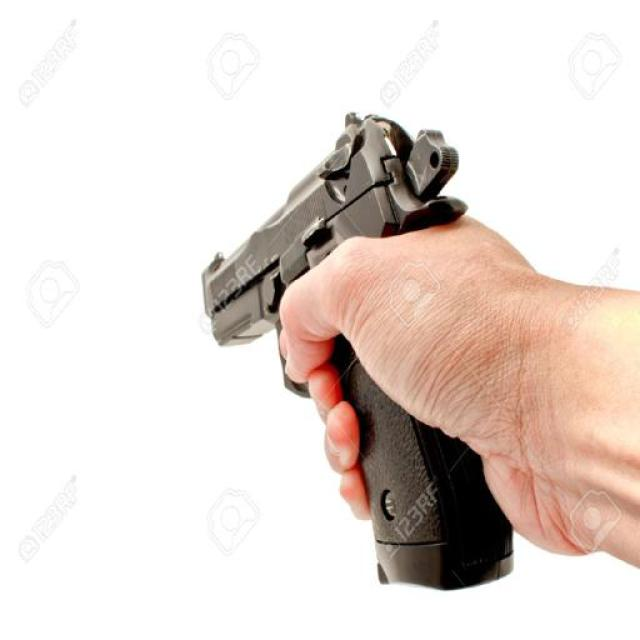pistol: (200, 64, 522, 594)
